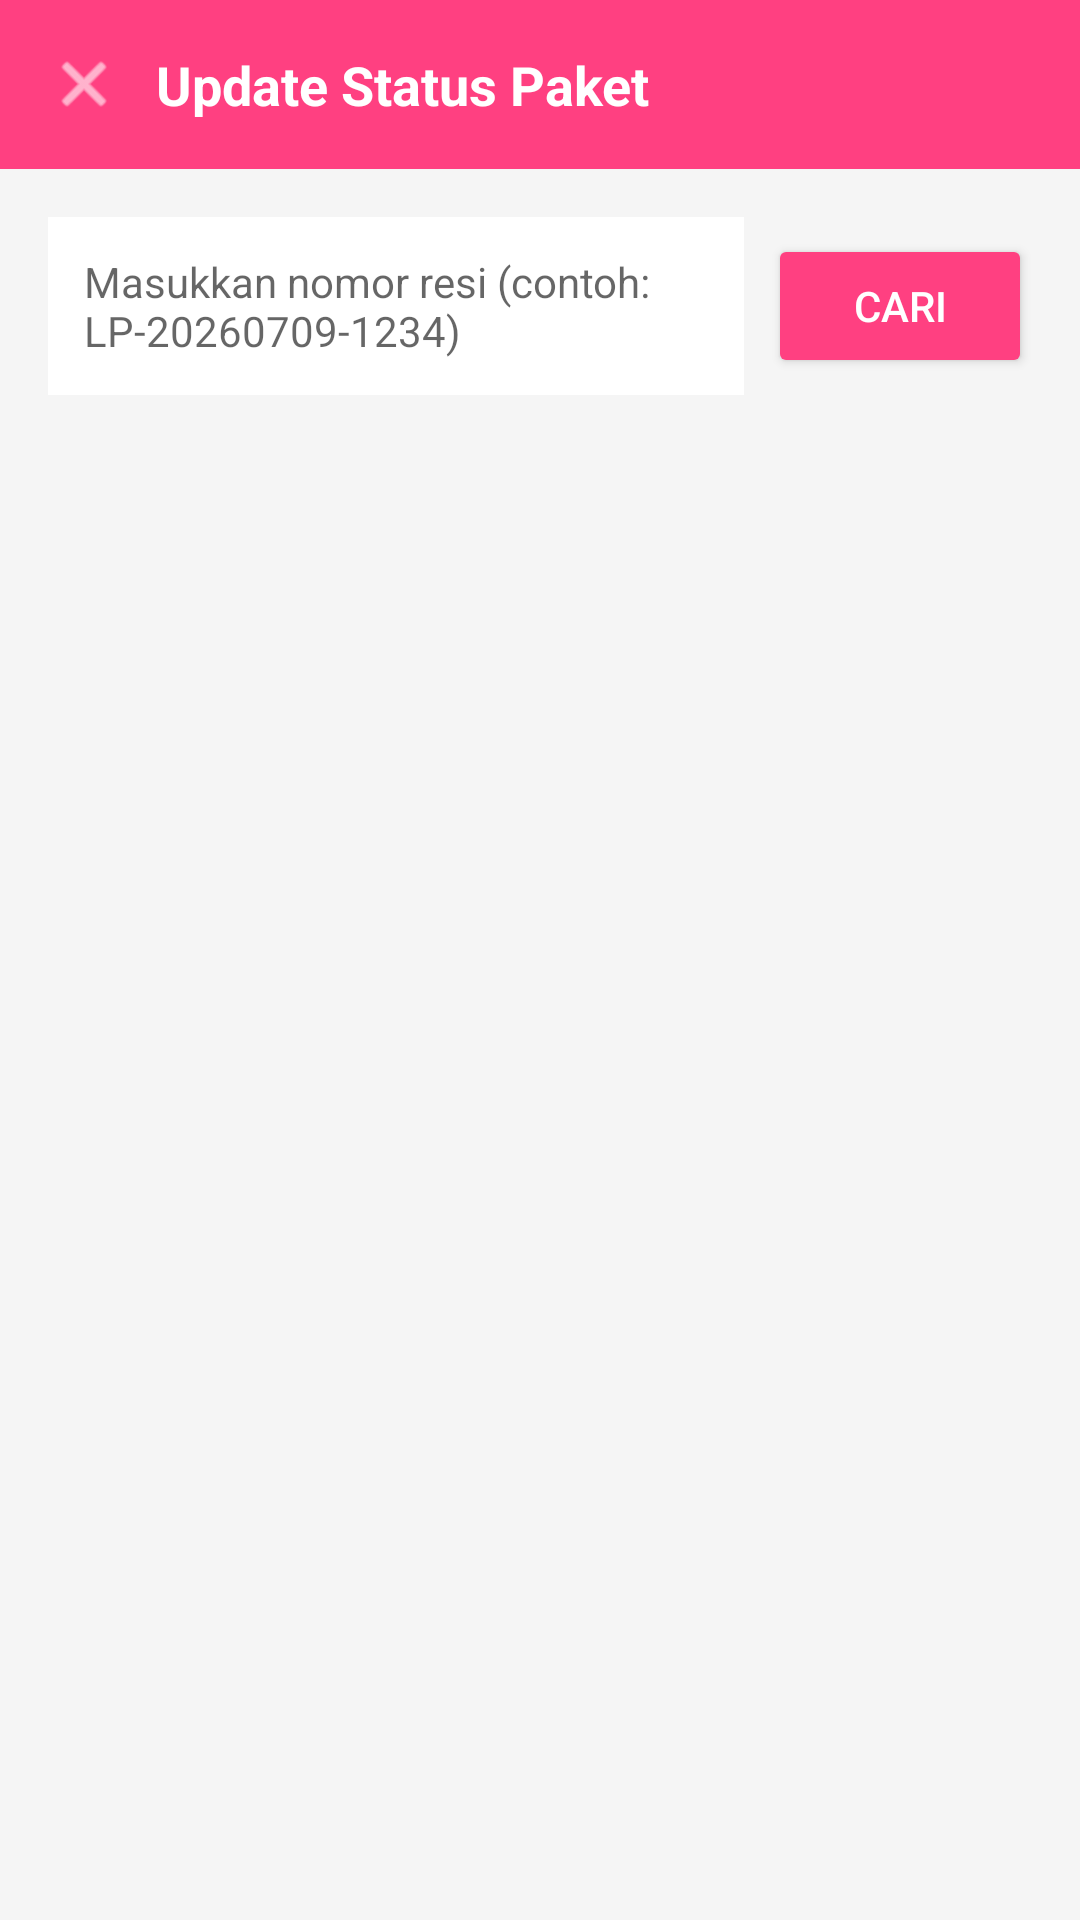

Screen size 1080×1920. Icon name, then its box in pixels as (x1, y1, x2, y2):
close clear cancel: (62, 62, 106, 106)
